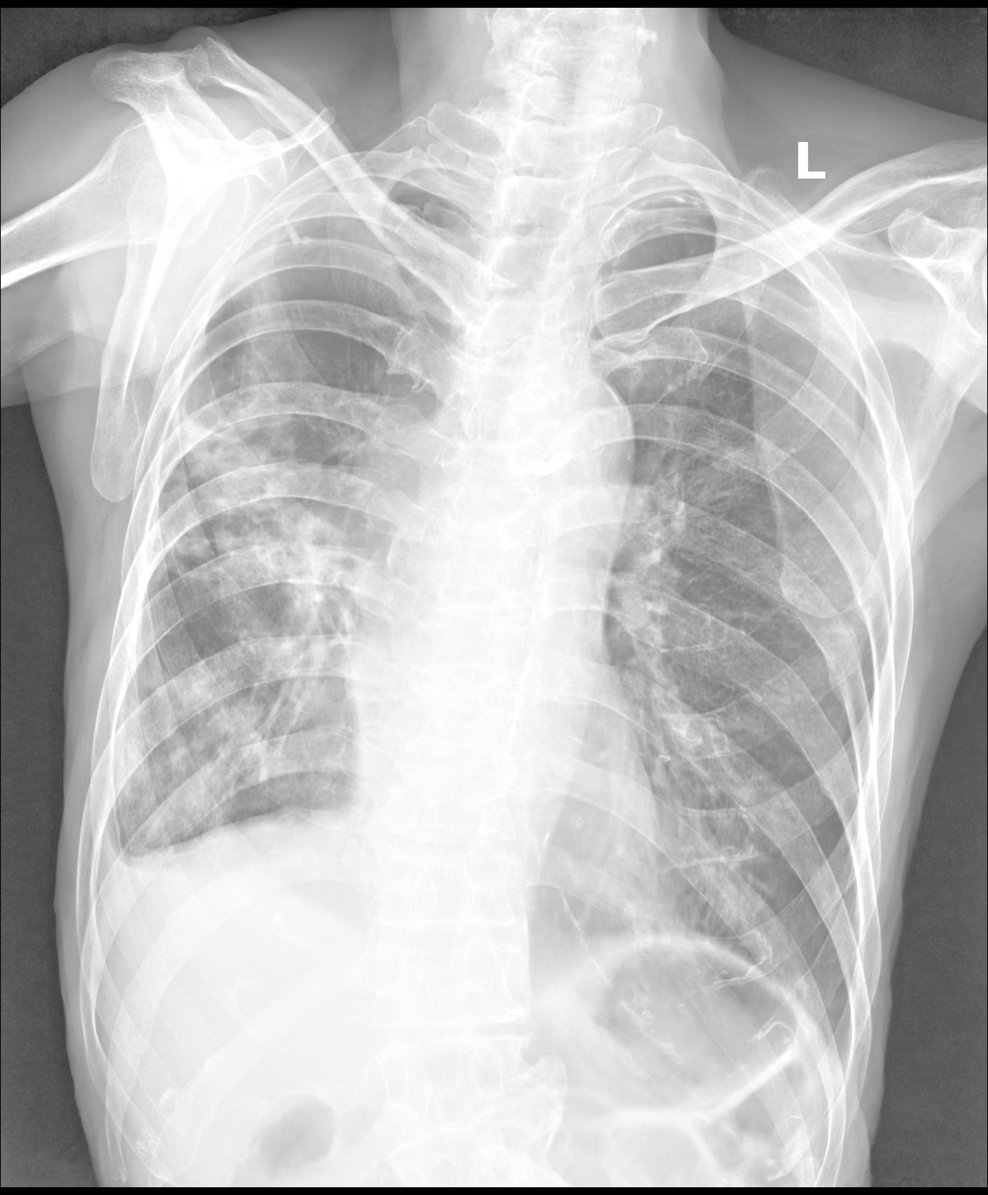Aortic enlargement: (503, 368, 637, 518)
Pleural thickening: (83, 786, 144, 944), (346, 159, 453, 198), (610, 185, 740, 212)
